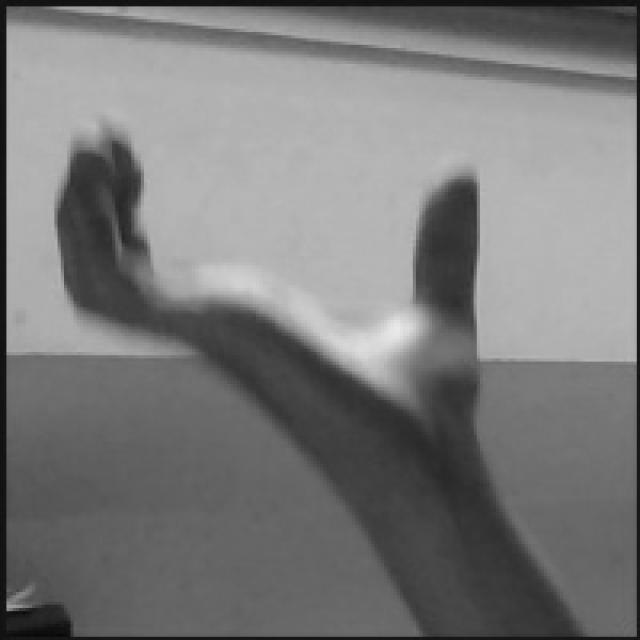space: (47, 110, 481, 454)
